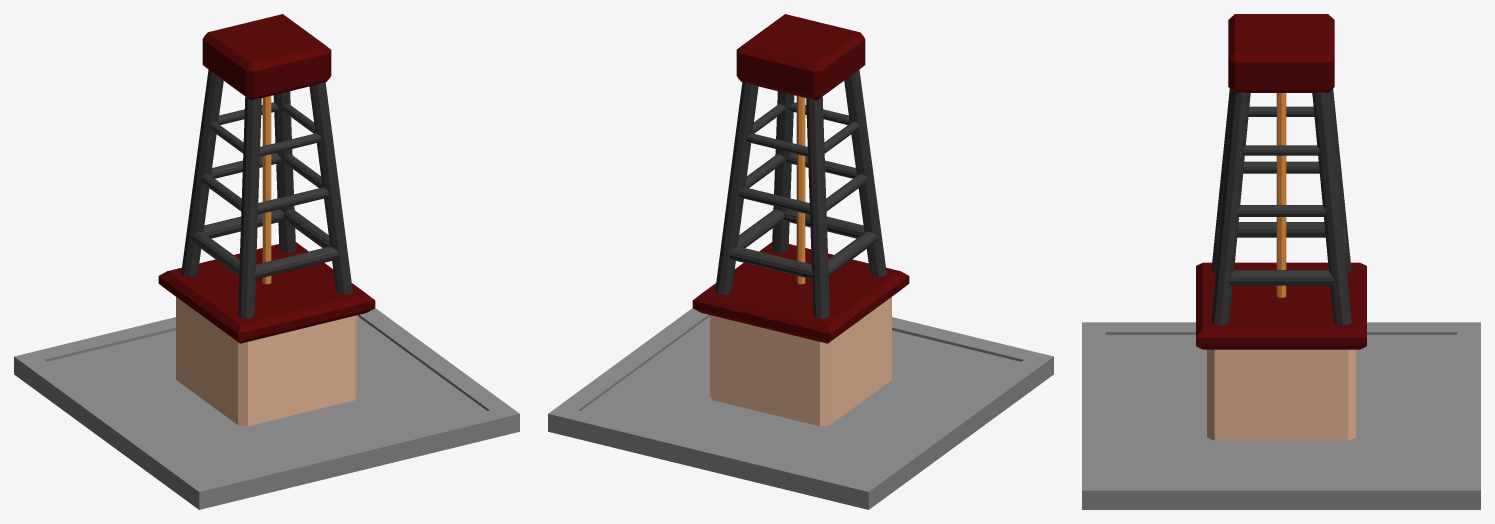
File: GasExtraction_Model.fbx
3 renders of one model, left to right at view 1: azimuth 30°, elevation 25°; view 2: azimuth 150°, elevation 25°; view 3: azimuth 270°, elevation 25°, orthographic. The views are drawn at different scales.
Parts seen in each view (by area): view 1: pCube7, pCube8, pCube9, pCylinder4, pCylinder3, pCylinder1, pCylinder12, pCylinder2, pCylinder13, pCylinder5, pCylinder8, pCylinder9 (+2 smaller); view 2: pCube7, pCube8, pCube9, pCylinder1, pCylinder2, pCylinder4, pCylinder12, pCylinder3, pCylinder13, pCylinder5, pCylinder8, pCylinder9 (+2 smaller); view 3: pCube7, pCube8, pCube9, pCylinder2, pCylinder3, pCylinder13, pCylinder9, pCylinder5, pCylinder17, pCylinder1, pCylinder4.
Part boxes in pixels (x1=…): pCube7: x1=14, y1=308, x2=519, y2=509; pCube8: x1=158, y1=242, x2=375, y2=426; pCube9: x1=202, y1=14, x2=331, y2=100; pCylinder4: x1=238, y1=96, x2=261, y2=318; pCylinder3: x1=309, y1=82, x2=352, y2=294; pCylinder1: x1=181, y1=69, x2=223, y2=277; pCylinder12: x1=203, y1=209, x2=338, y2=279; pCylinder2: x1=273, y1=91, x2=295, y2=253; pCylinder13: x1=190, y1=209, x2=329, y2=276; pCylinder5: x1=262, y1=96, x2=271, y2=284; pCylinder8: x1=211, y1=153, x2=329, y2=214; pCylinder9: x1=200, y1=154, x2=322, y2=211; pCube7: x1=548, y1=308, x2=1053, y2=509; pCube8: x1=692, y1=242, x2=909, y2=426; pCube9: x1=736, y1=14, x2=865, y2=100; pCylinder1: x1=806, y1=96, x2=829, y2=318; pCylinder2: x1=715, y1=82, x2=758, y2=294; pCylinder4: x1=844, y1=69, x2=886, y2=277; pCylinder12: x1=729, y1=209, x2=864, y2=279; pCylinder3: x1=772, y1=91, x2=794, y2=253; pCylinder13: x1=738, y1=209, x2=877, y2=276; pCylinder5: x1=796, y1=96, x2=805, y2=284; pCylinder8: x1=738, y1=153, x2=856, y2=214; pCylinder9: x1=745, y1=154, x2=867, y2=211; pCube7: x1=1082, y1=322, x2=1480, y2=509; pCube8: x1=1196, y1=262, x2=1366, y2=440; pCube9: x1=1228, y1=14, x2=1334, y2=92; pCylinder2: x1=1312, y1=91, x2=1351, y2=325; pCylinder3: x1=1211, y1=91, x2=1250, y2=325; pCylinder13: x1=1228, y1=222, x2=1334, y2=285; pCylinder9: x1=1237, y1=161, x2=1325, y2=216; pCylinder5: x1=1276, y1=93, x2=1286, y2=297; pCylinder17: x1=1243, y1=106, x2=1319, y2=155; pCylinder1: x1=1330, y1=88, x2=1351, y2=273; pCylinder4: x1=1211, y1=88, x2=1232, y2=273.
Bounding box in the file's own units: 22.06 × 23.93 × 22.06.
